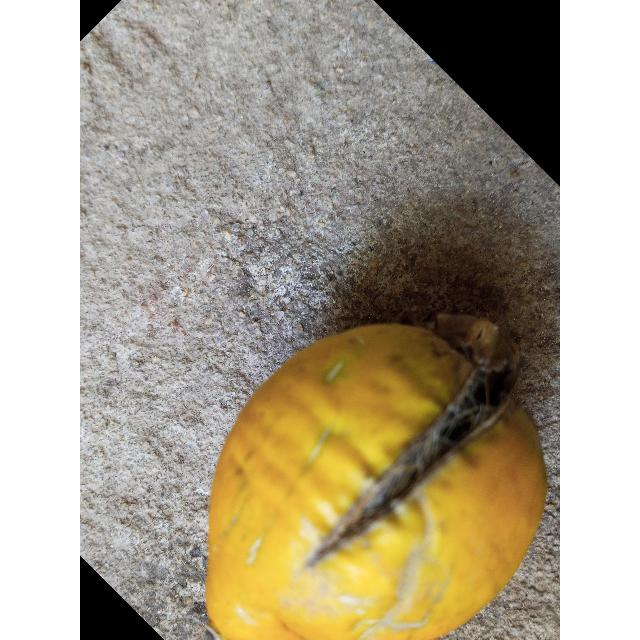damaged: (206, 315, 546, 640)
